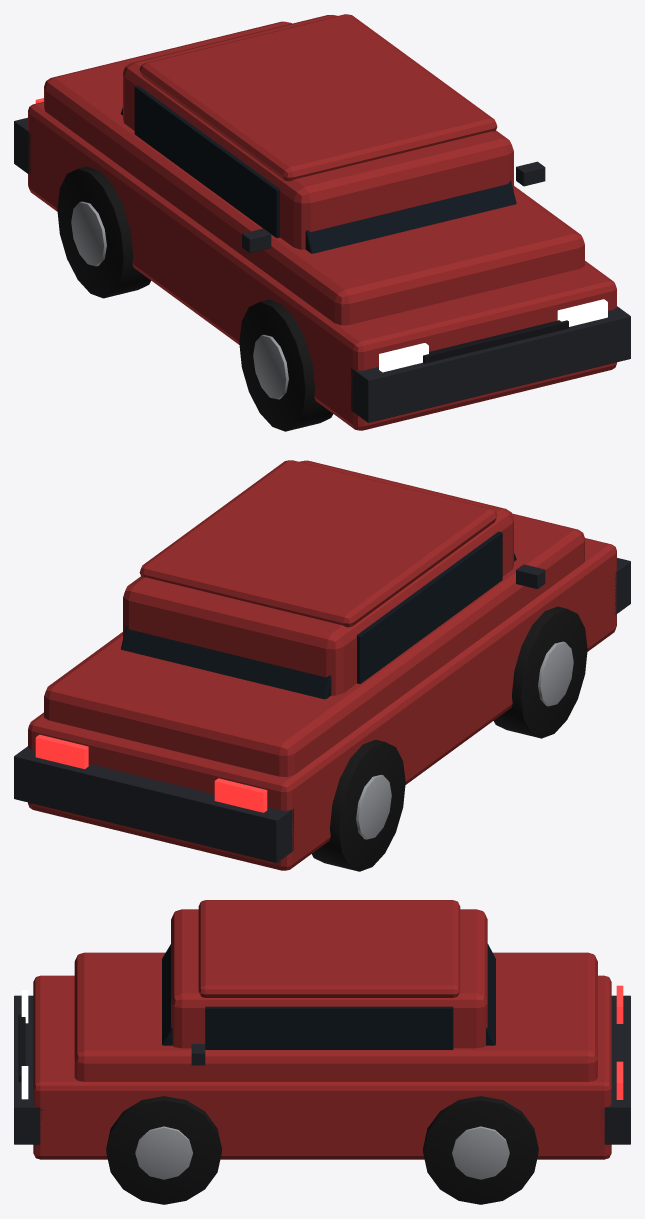
File: car_suv.glb
3 renders of one model, top to bottom at view 1: azimuth 30°, elevation 25°; view 2: azimuth 150°, elevation 25°; view 3: azimuth 270°, elevation 25°, orthographic. The views are drawn at different scales.
Visible parts, largest first — view 1: Cube.001, Cube, Cube.003, Cube.002, Cube.010, Cube.007, Cone, Cone.002, Cube.004, Cone.001, Cone.003, Cube.012 (+5 smaller); view 2: Cube.001, Cube.003, Cube, Cube.002, Cube.011, Cube.007, Cone.002, Cone, Cube.005, Cone.003, Cone.001, Cube.015 (+3 smaller); view 3: Cube, Cube.001, Cube.003, Cube.006, Cube.002, Cone.004, Cone.006, Cube.011, Cube.010, Cone.005, Cone.007, Cube.004 (+2 smaller).
Boxes of the visible parts, bbox=[...] form: Cube.001: bbox=[44, 21, 584, 325]; Cube: bbox=[28, 101, 616, 430]; Cube.003: bbox=[139, 14, 497, 181]; Cube.002: bbox=[123, 15, 513, 249]; Cube.010: bbox=[351, 306, 630, 422]; Cube.007: bbox=[134, 85, 280, 237]; Cone: bbox=[57, 166, 151, 298]; Cone.002: bbox=[239, 299, 332, 431]; Cube.004: bbox=[305, 180, 516, 253]; Cone.001: bbox=[71, 201, 106, 266]; Cone.003: bbox=[253, 334, 288, 399]; Cube.012: bbox=[423, 320, 568, 363]; Cube.001: bbox=[44, 513, 584, 776]; Cube.003: bbox=[139, 460, 497, 627]; Cube: bbox=[28, 538, 616, 870]; Cube.002: bbox=[123, 460, 513, 695]; Cube.011: bbox=[14, 746, 293, 862]; Cube.007: bbox=[356, 531, 502, 683]; Cone.002: bbox=[494, 606, 587, 738]; Cone: bbox=[312, 739, 405, 871]; Cube.005: bbox=[121, 625, 331, 699]; Cone.003: bbox=[538, 641, 573, 706]; Cone.001: bbox=[356, 775, 391, 839]; Cube.015: bbox=[35, 734, 88, 769]; Cube: bbox=[33, 975, 611, 1159]; Cube.001: bbox=[74, 952, 597, 1081]; Cube.003: bbox=[198, 900, 460, 997]; Cube.006: bbox=[205, 1006, 453, 1049]; Cube.002: bbox=[171, 909, 487, 1048]; Cone.004: bbox=[423, 1096, 538, 1204]; Cone.006: bbox=[106, 1096, 221, 1204]; Cube.011: bbox=[601, 995, 630, 1144]; Cube.010: bbox=[14, 995, 42, 1144]; Cone.005: bbox=[452, 1126, 509, 1179]; Cone.007: bbox=[135, 1126, 192, 1179]; Cube.004: bbox=[162, 944, 172, 1045].
Bounding box in the file's own units: 2.16 × 1.62 × 4.48.
